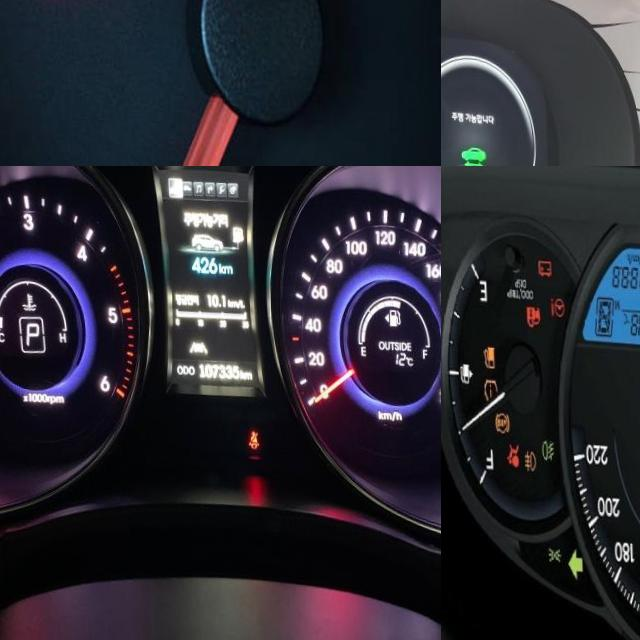Electronic Power Steering: (548, 293, 565, 316)
